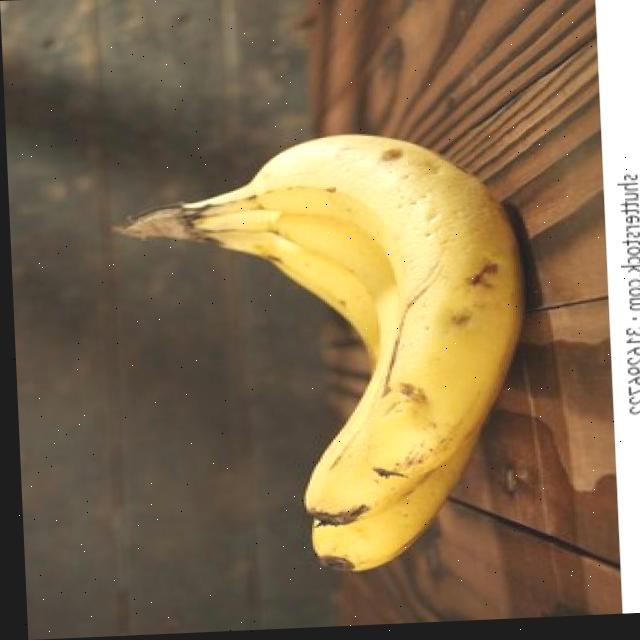banana: (101, 122, 548, 587)
